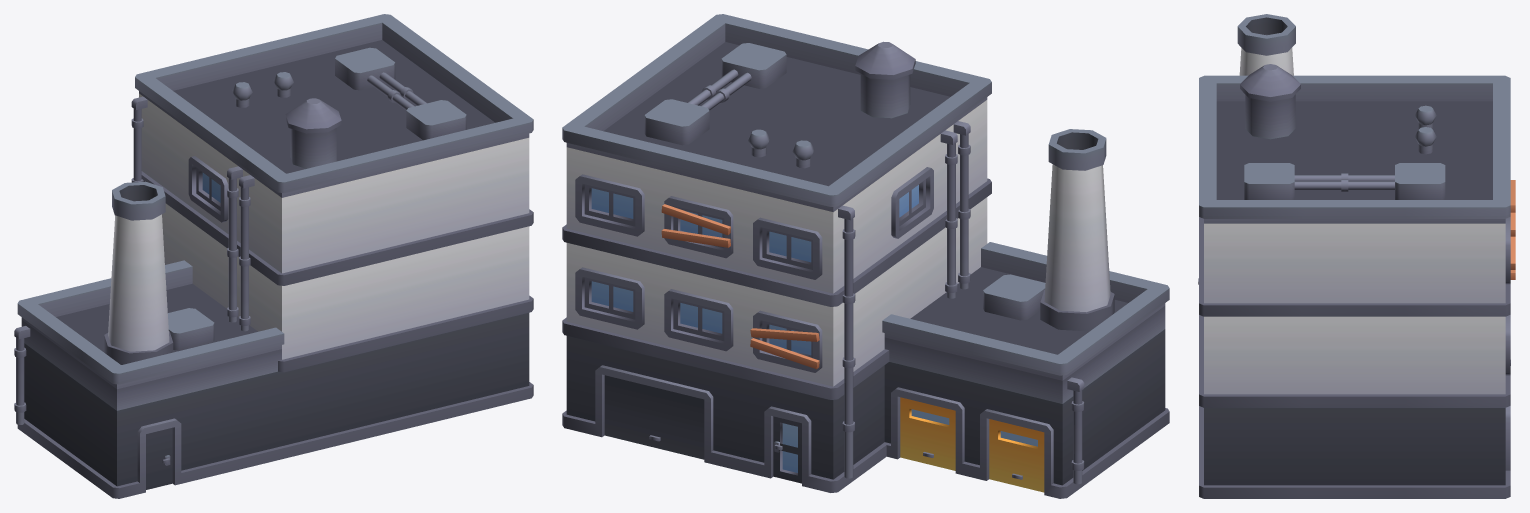
File: k-city-kit-industrial-building-b.glb
The picture shows the model from 3 angles, left to right: view 1: azimuth 30°, elevation 25°; view 2: azimuth 150°, elevation 25°; view 3: azimuth 270°, elevation 25°; orthographic projection. The views are drawn at different scales.
Parts seen in each view (by area): view 1: building-b; view 2: building-b; view 3: building-b.
Part boxes in pixels (left/top/right/bottom): building-b: left=14, top=14, right=533, bottom=498; building-b: left=562, top=14, right=1169, bottom=498; building-b: left=1198, top=14, right=1515, bottom=498.
Size of the model in its own units: 2.08 by 1.47 by 1.26.
Materials: 1 (1 with a texture image).
